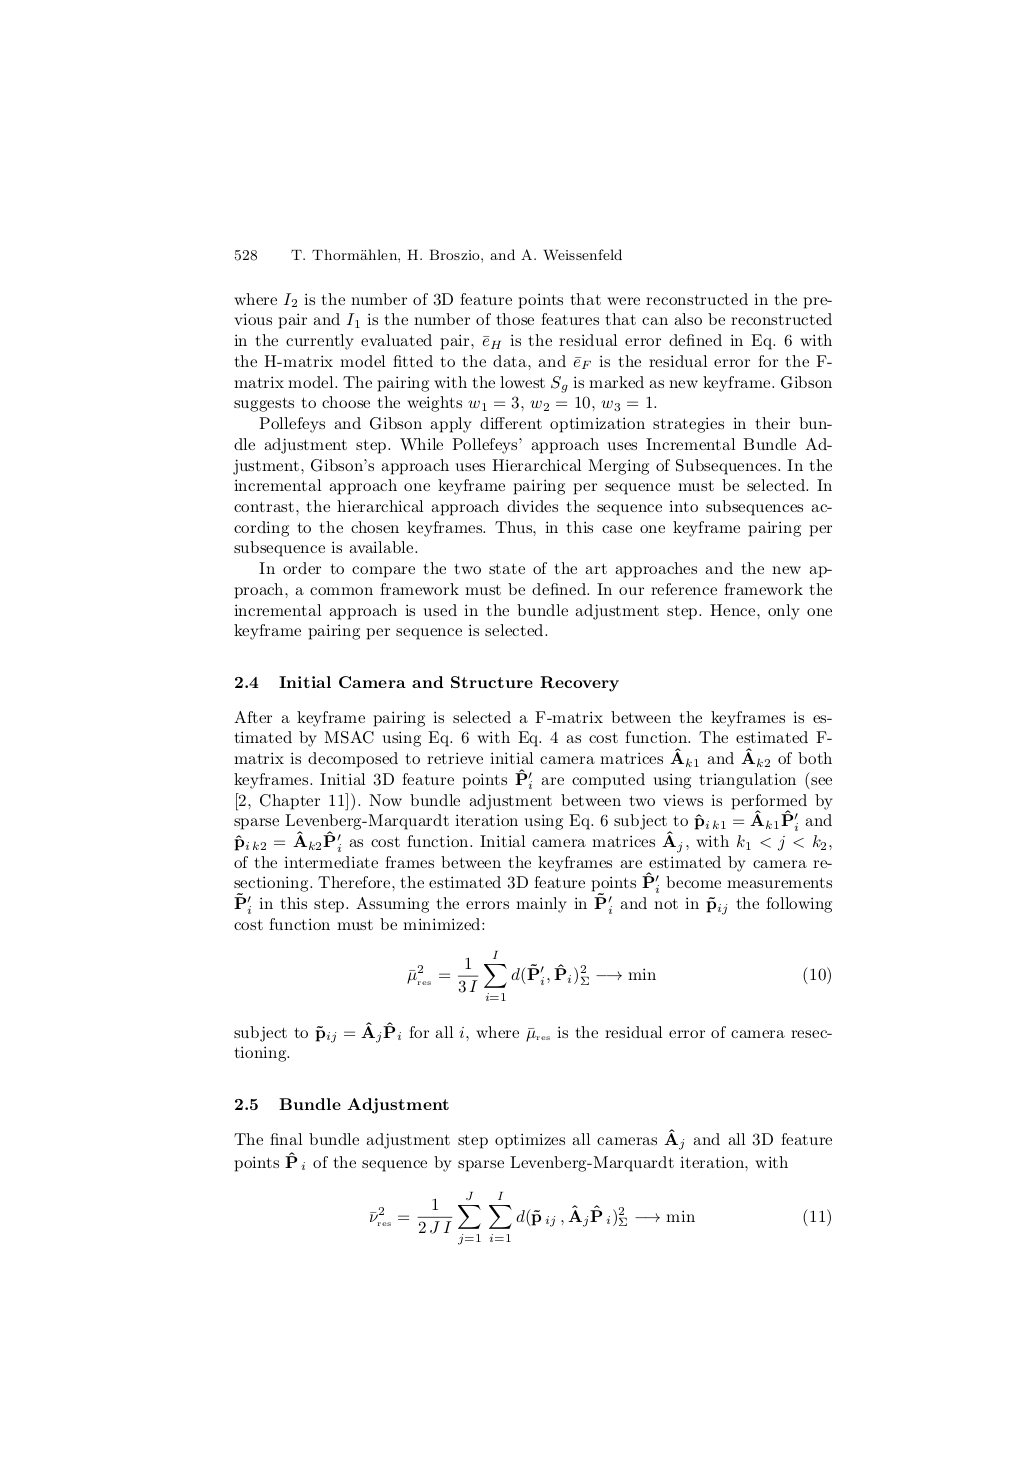formula: (370, 1190, 830, 1245), (407, 949, 830, 1001)
